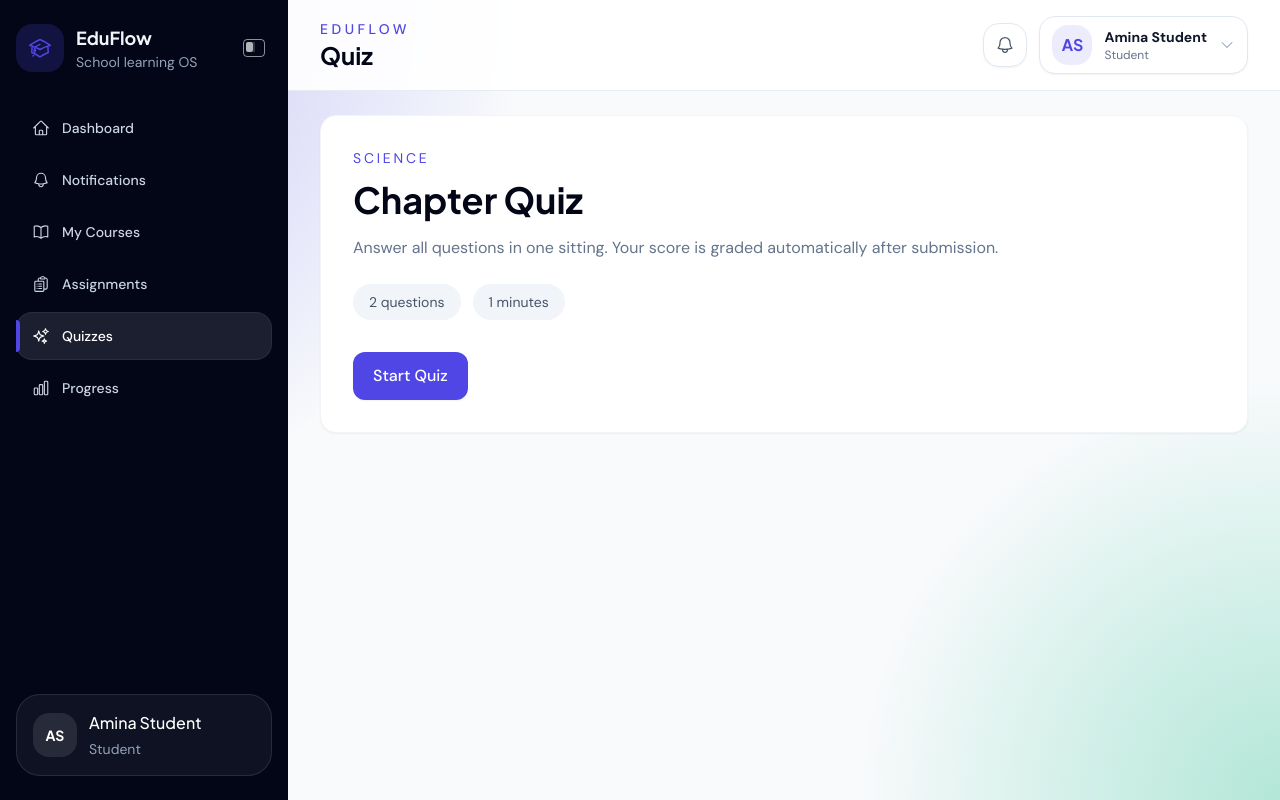
Test: QuizPage › results screen shows score with correct color (green ≥60)
What coordinates should you click on to do the following:
click the button "Start Quiz"
I would click on:
 (410, 376)
Its box is [353,352,468,400].
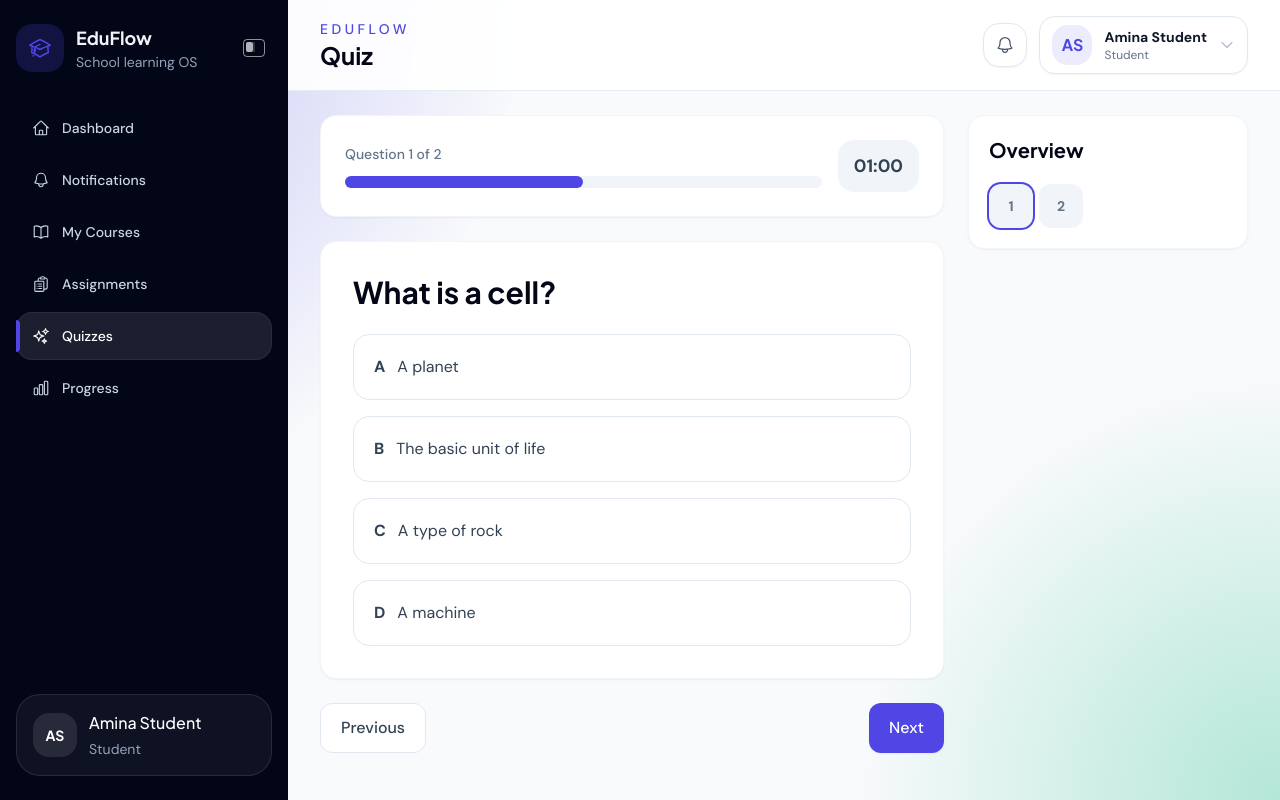
What coordinates should you click on to do the following:
click the button with test id "option-card-b"
I would click on:
 (471, 448)
Its box is [353,416,911,482].
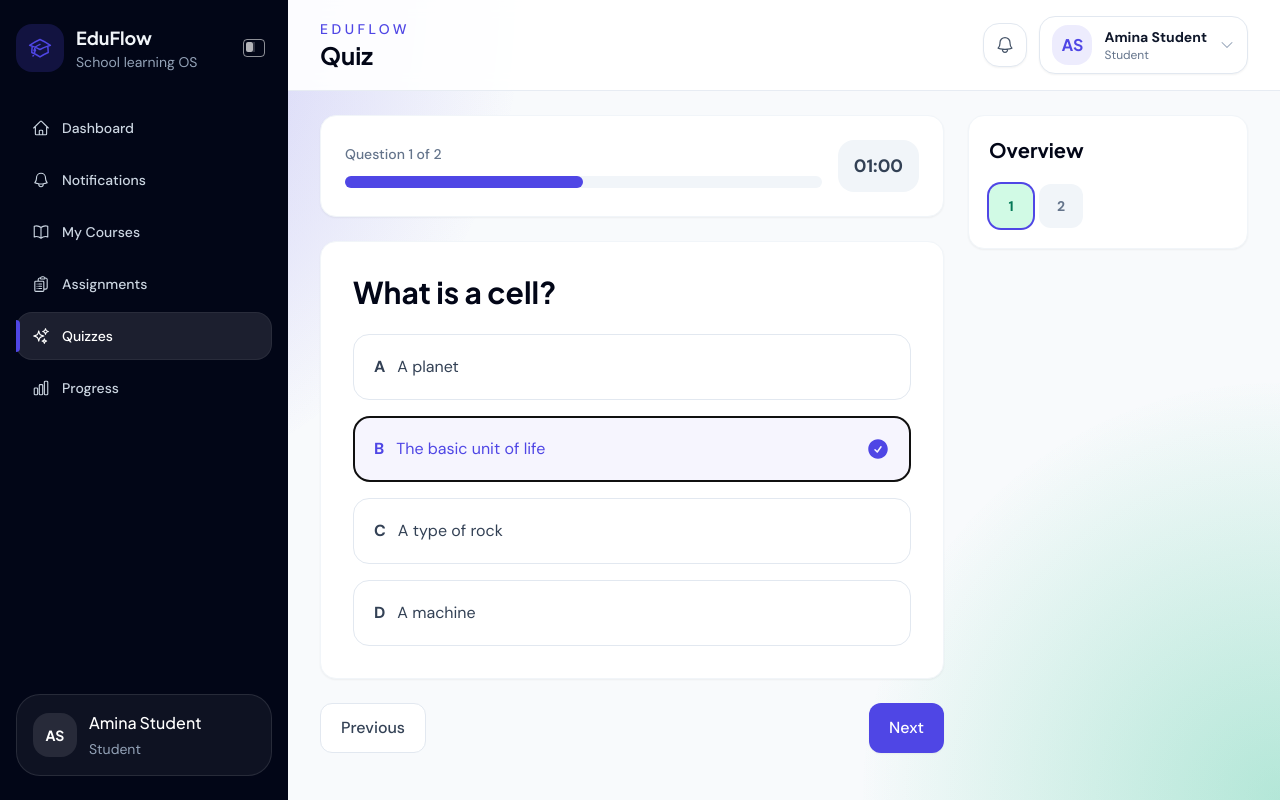
What coordinates should you click on to do the following:
click the button "Next"
I would click on:
 (907, 728)
Its box is [869,703,944,753].
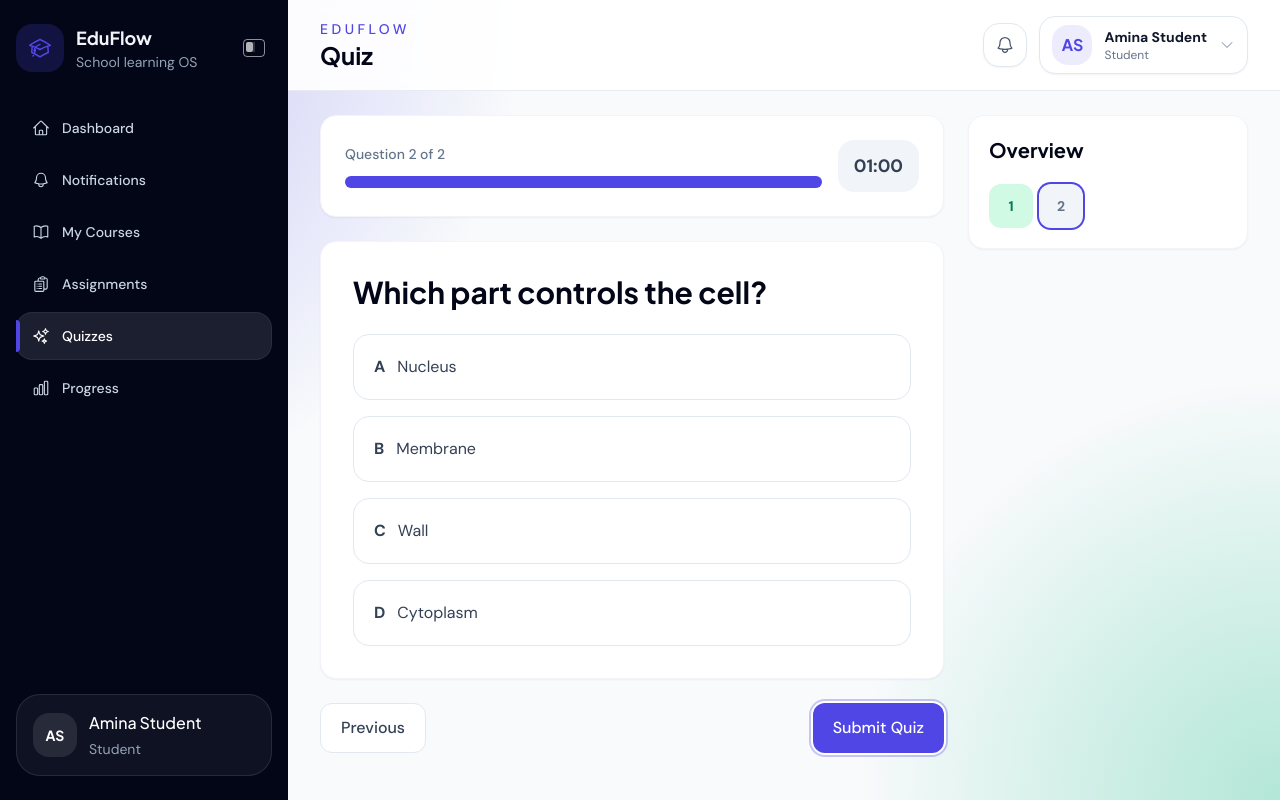
What coordinates should you click on to do the following:
click the button with test id "option-card-a"
I would click on:
 (427, 366)
Its box is [353,334,911,400].
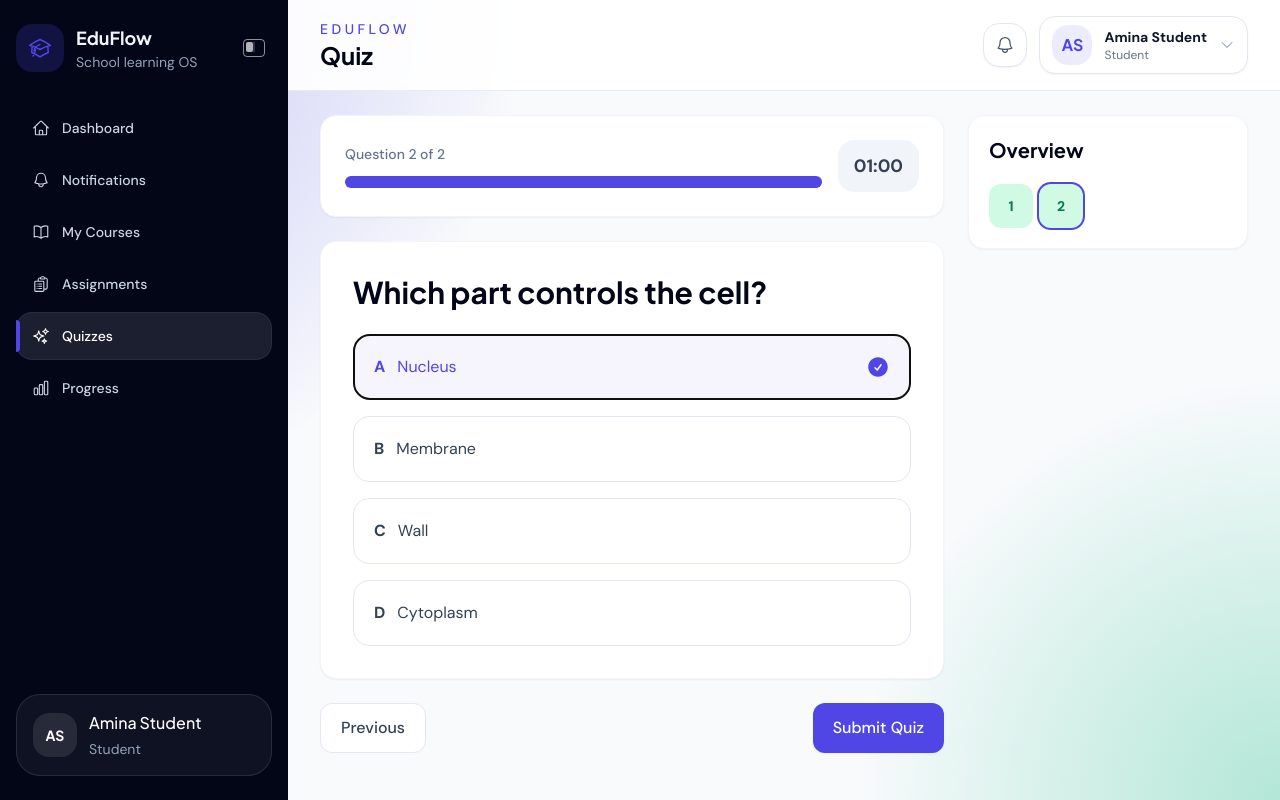
What coordinates should you click on to do the following:
click the button "Submit Quiz"
I would click on:
 (878, 728)
Its box is [813,703,944,753].
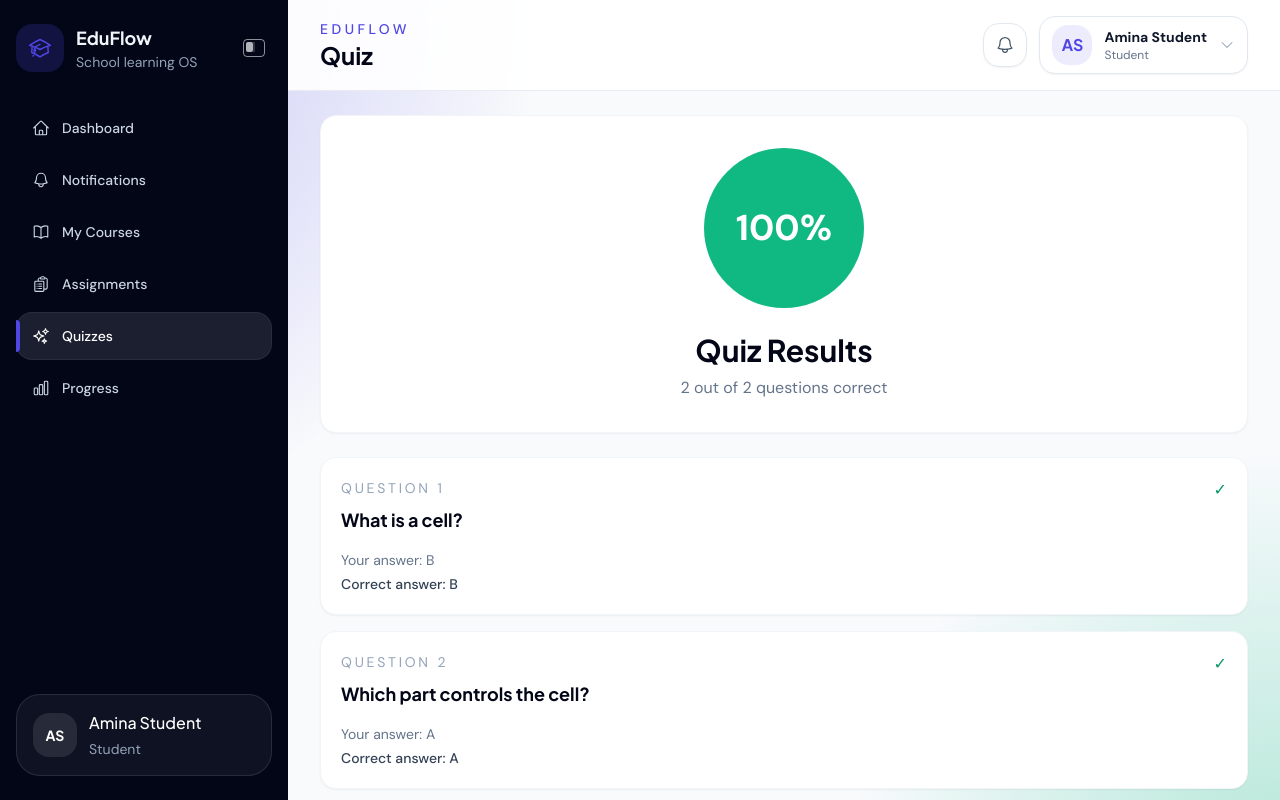
Result: the text with test id "score-circle" reads "100%" at [704,148,864,308]
